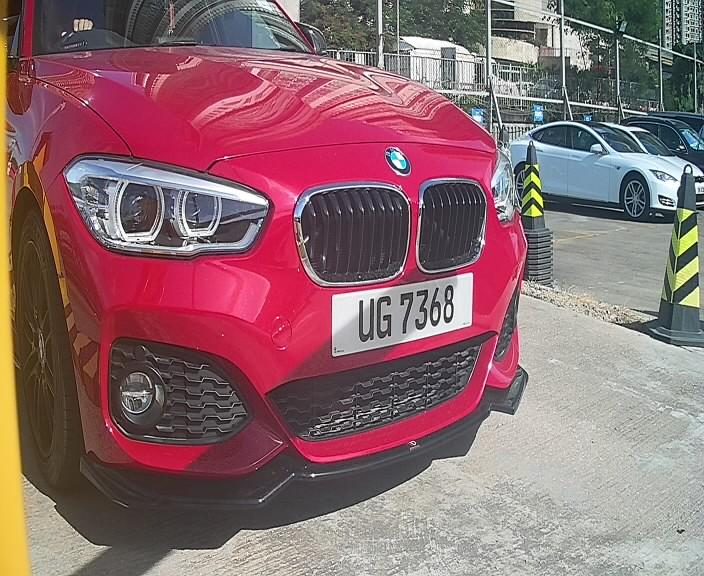License Plate: (318, 268, 478, 366)
